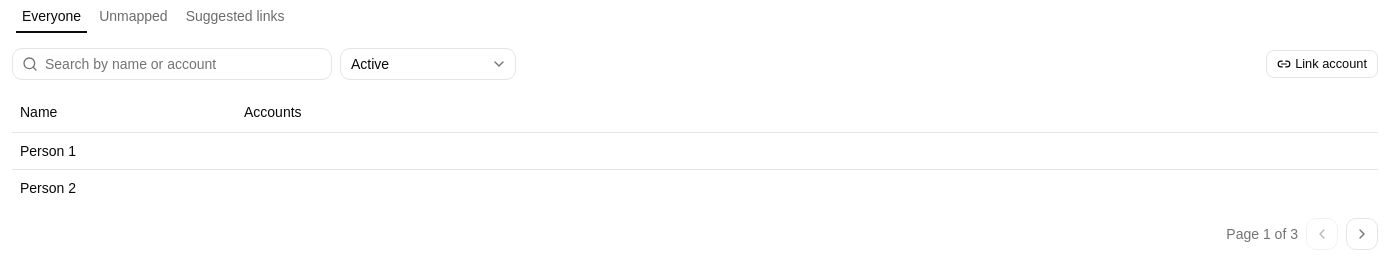
it: PeoplePage › searches and pages on the server, keeping both in the URL
Expected: the text "Person 1" is shown, [12, 132, 236, 169]
Expected: the text "Page 1 of 3" is shown, [1226, 218, 1378, 250]
Click the button named "Next page". click: (1362, 234)
box: [1346, 218, 1378, 250]
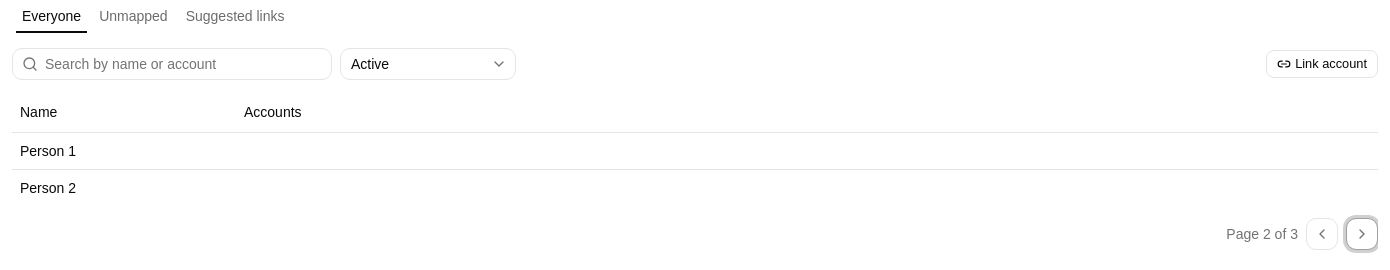
Type "seven" into the field labelled "Search by name or account". click: (172, 64)
box: [12, 48, 332, 80]
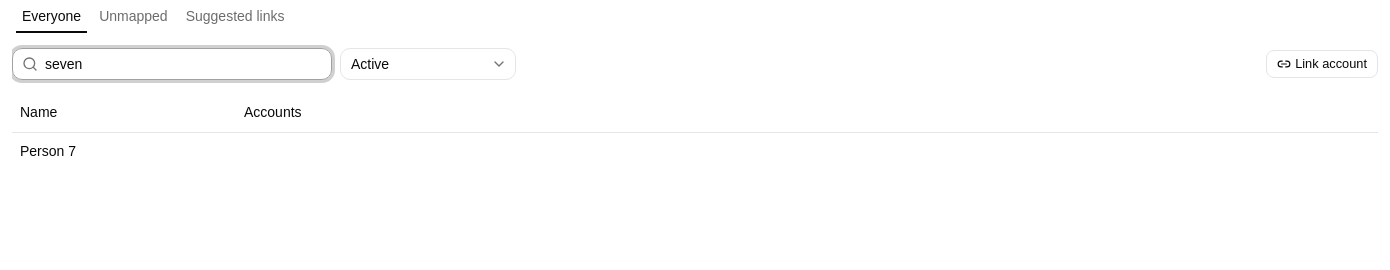
Result: the text "Person 7" is shown at [12, 132, 236, 168]
